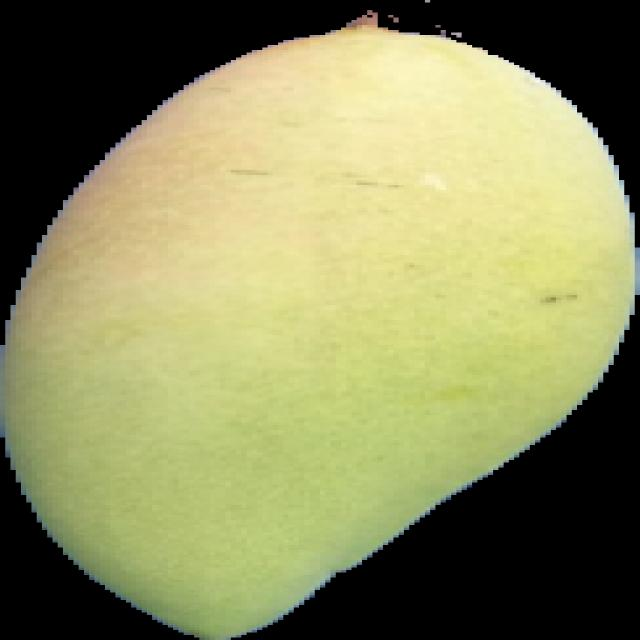Mango-sano: (0, 10, 639, 639)
